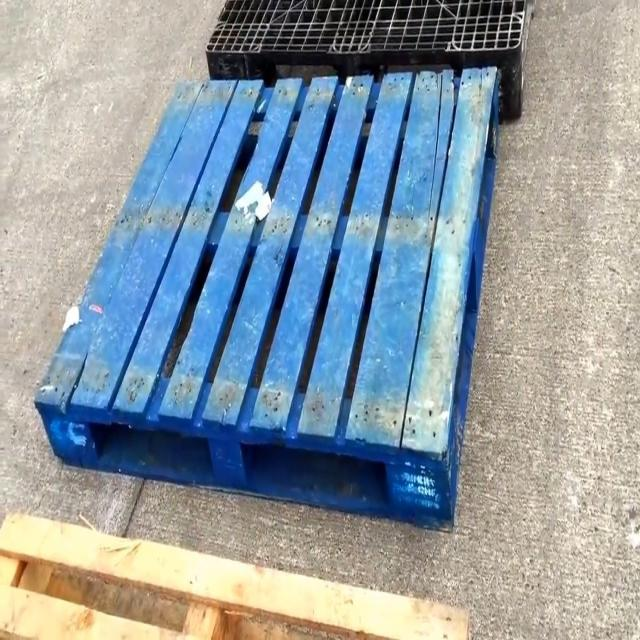Palette: (27, 68, 503, 533), (0, 499, 473, 639), (192, 0, 532, 121)
